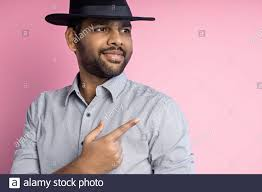Indian_Male: (80, 21, 142, 81)
